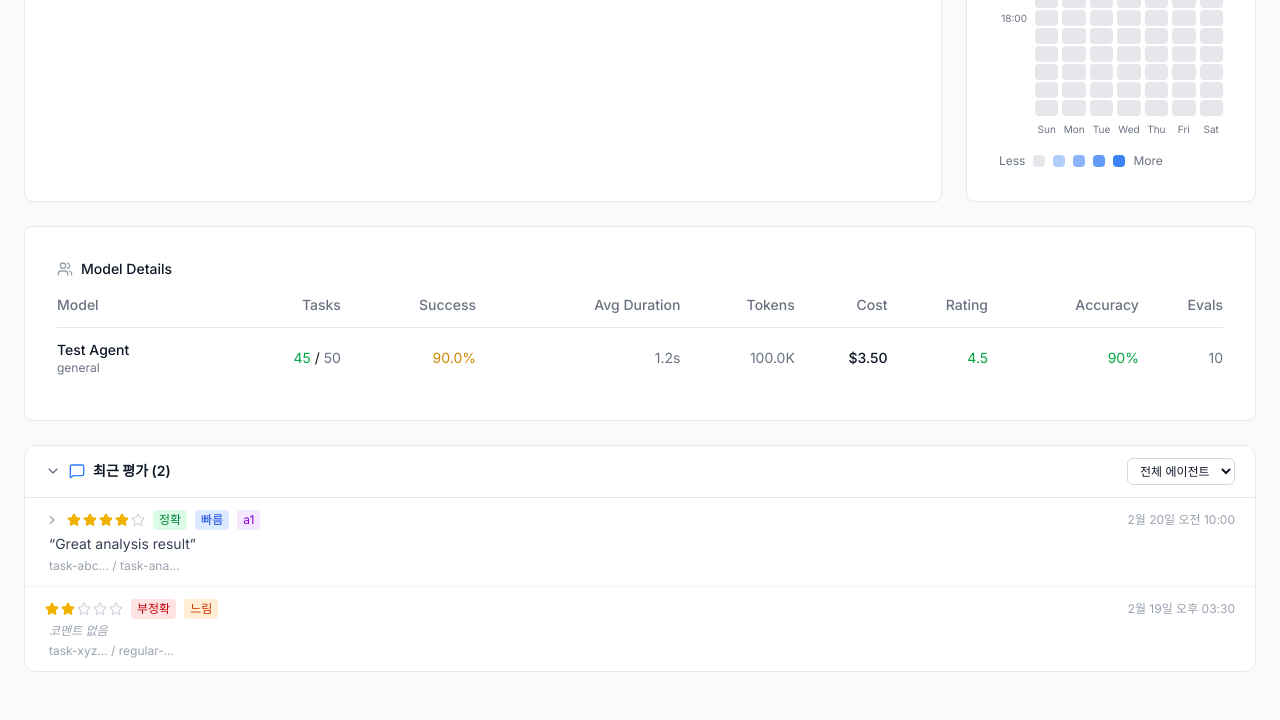
Test: AnalyticsPage › expands task-analyzer evaluation to show analysis detail
(page scrolled)
Expected: the text "“Great analysis result”" is shown, [49,534,196,552]
Click on the task-analyzer eval item to expand
Click the text "Great analysis result": (170, 520) [25,498,1255,586]
(page scrolled)
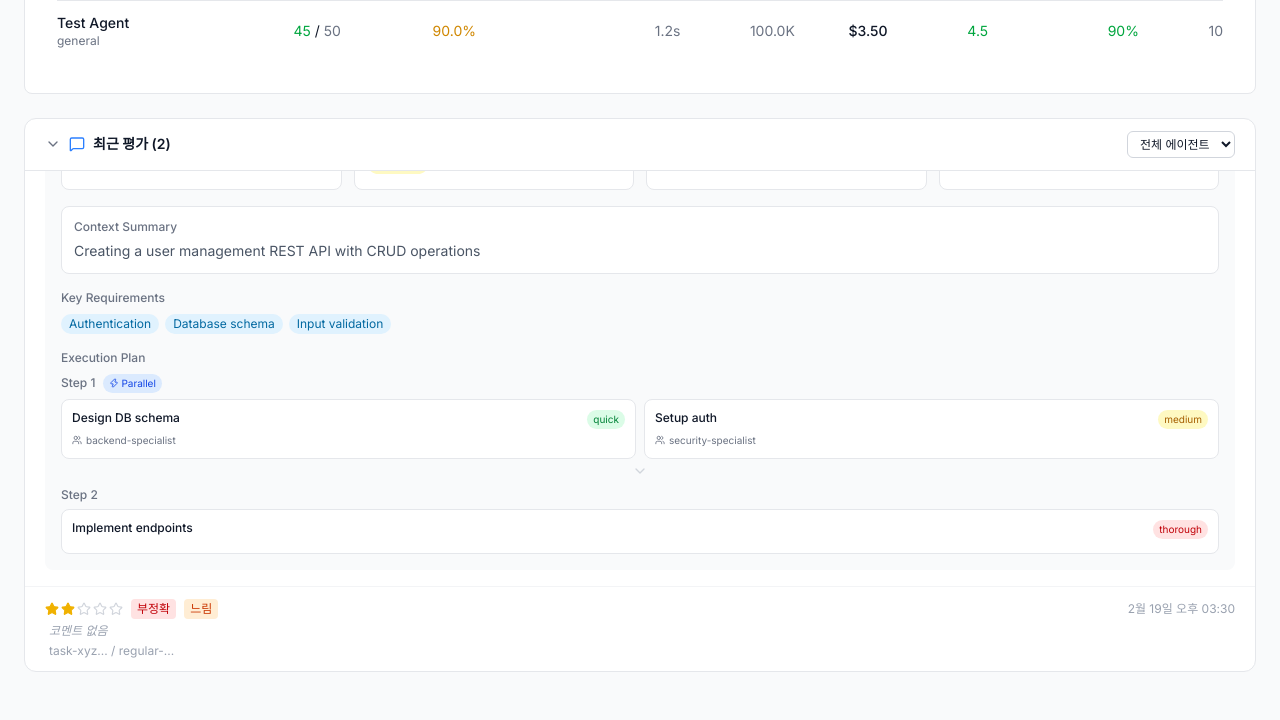
Now the heading "Context Summary" is shown, box [74,218,177,234]
Now the heading "Key Requirements" is shown, box [61,290,165,304]
Now the heading "Execution Plan" is shown, box [61,350,145,364]
